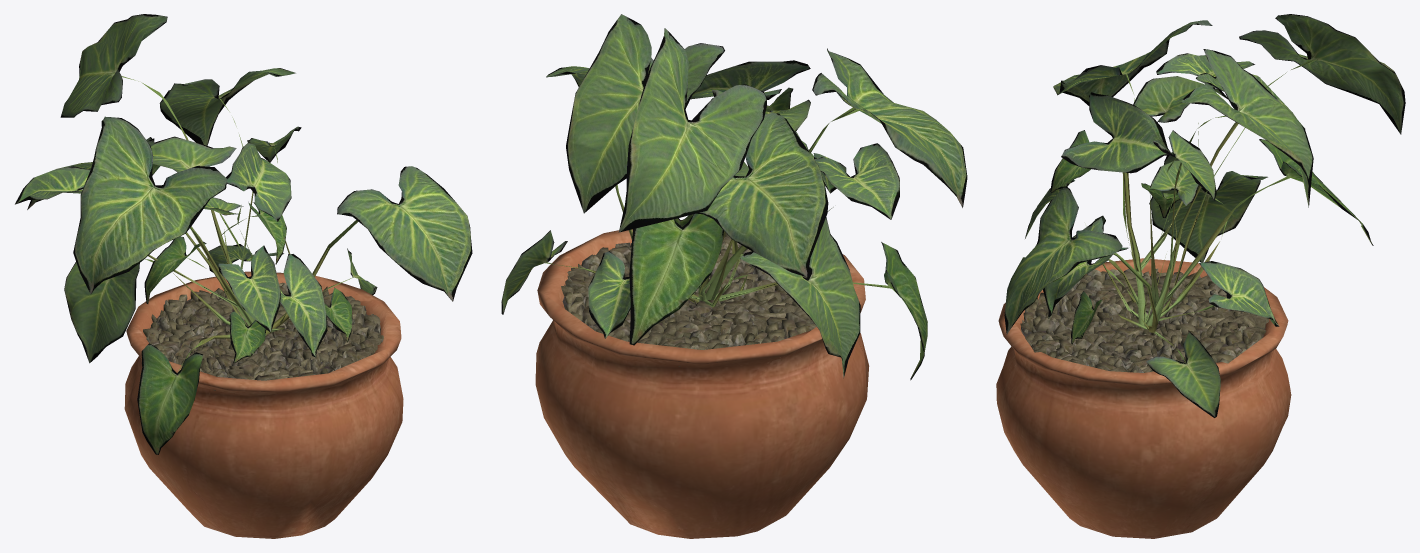
The model's file is potted_plant_02_tv.gltf.
The picture shows the model from 3 angles, left to right: view 1: azimuth 30°, elevation 25°; view 2: azimuth 150°, elevation 25°; view 3: azimuth 270°, elevation 25°; orthographic projection. The views are drawn at different scales.
Visible parts, largest first — view 1: potted_plant_02_leaves, potted_plant_02_pot, potted_plant_02_dirt; view 2: potted_plant_02_leaves, potted_plant_02_pot, potted_plant_02_dirt; view 3: potted_plant_02_leaves, potted_plant_02_pot, potted_plant_02_dirt.
Boxes of the visible parts, <box> form: potted_plant_02_leaves: <box>15,14,472,454</box>; potted_plant_02_pot: <box>124,271,403,538</box>; potted_plant_02_dirt: <box>143,282,383,390</box>; potted_plant_02_leaves: <box>501,14,967,380</box>; potted_plant_02_pot: <box>535,220,869,538</box>; potted_plant_02_dirt: <box>561,233,816,366</box>; potted_plant_02_leaves: <box>1004,14,1405,417</box>; potted_plant_02_pot: <box>996,258,1291,538</box>; potted_plant_02_dirt: <box>1020,268,1268,372</box>.
Size of the model in its own units: 0.7009 by 0.8401 by 0.6561.
2 materials, 2 textured.
